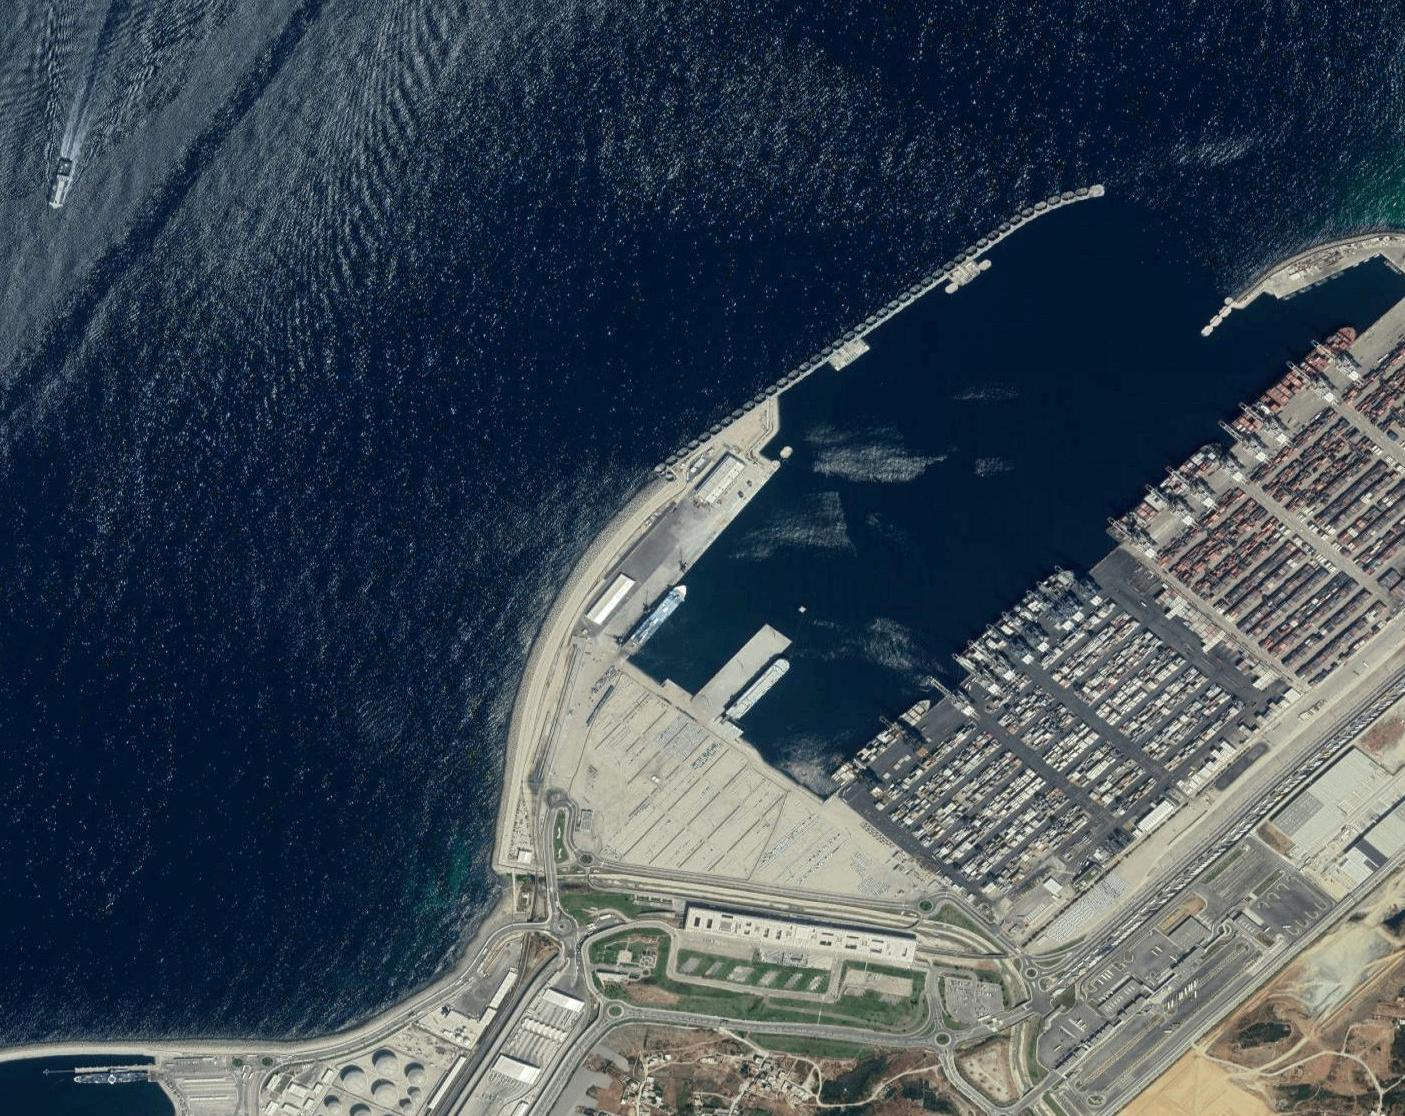harbor: (476, 154, 1358, 856)
